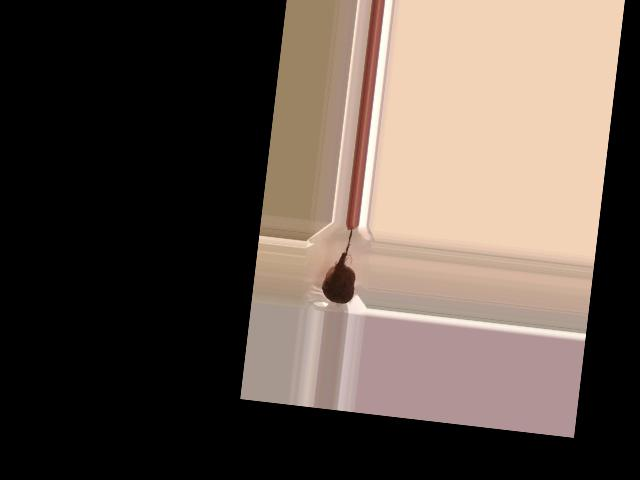beet: (320, 225, 360, 304)
